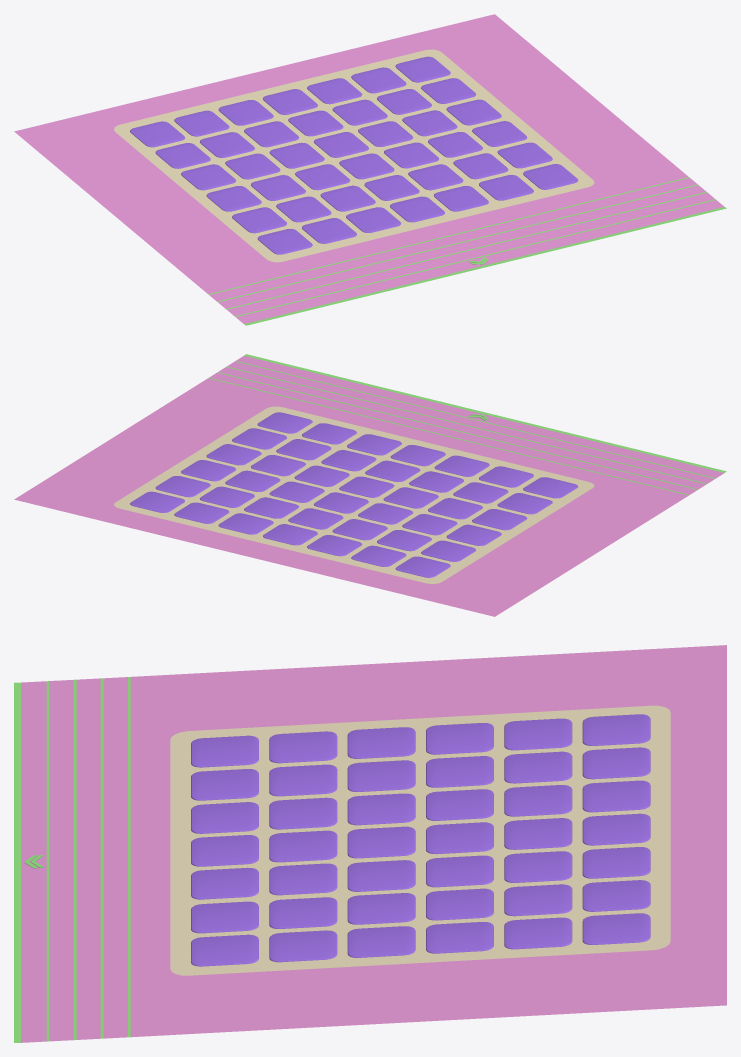
3 renders of one model, top to bottom at view 1: azimuth 30°, elevation 25°; view 2: azimuth 150°, elevation 25°; view 3: azimuth 270°, elevation 25°, orthographic. The views are drawn at different scales.
Parts seen in each view (by area): view 1: BG_in_1; view 2: BG_in_1; view 3: BG_in_1.
Boxes of the visible parts, left/top/right/bottom form: BG_in_1: left=14, top=14, right=726, bottom=325; BG_in_1: left=14, top=354, right=726, bottom=616; BG_in_1: left=14, top=645, right=726, bottom=1042.
Bounding box in the file's own units: 2.52 × 0.1275 × 2.11.
